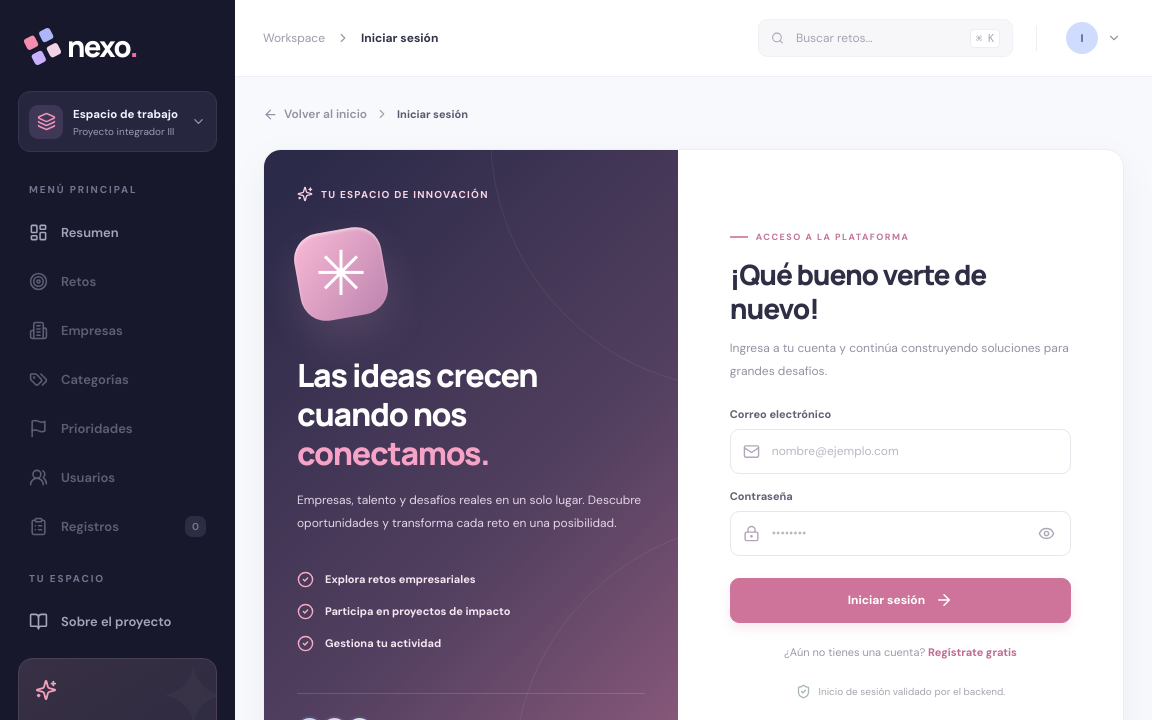
Test case: PlatformApp · autenticación › inicia sesión, guarda el token y abre el perfil
Type "ana@nexo.co" into the field with placeholder "nombre@ejemplo.com" at (914,451), box [770,430,1058,473]
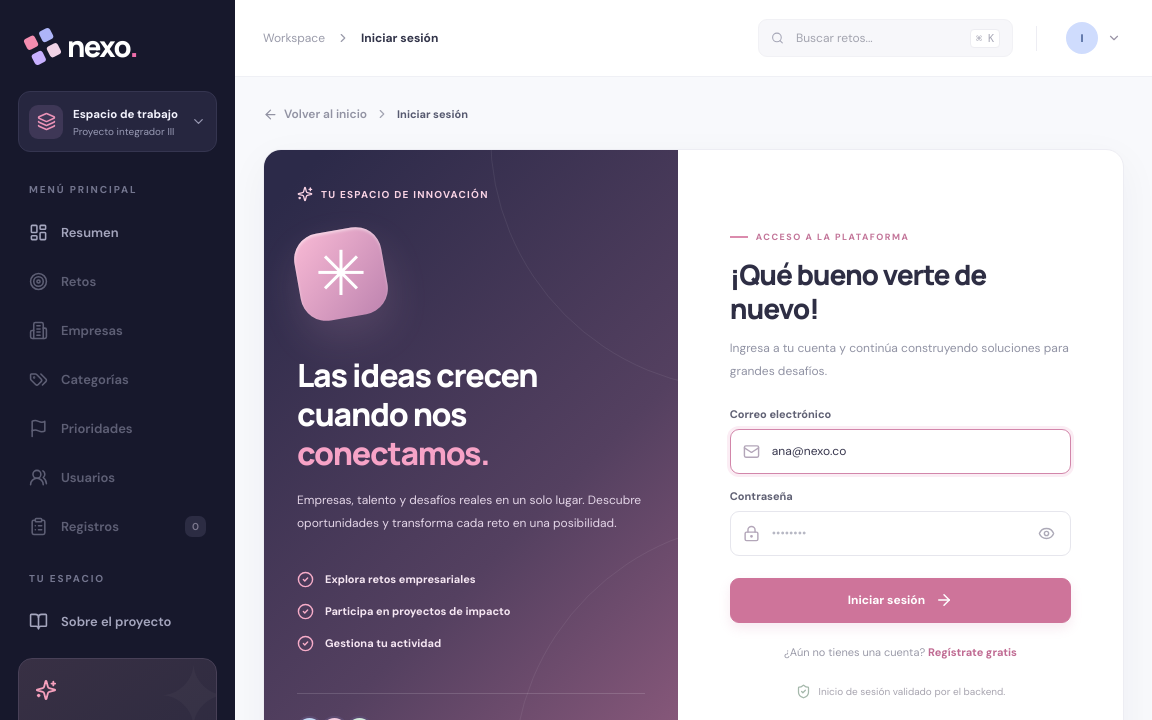
Type "secreta" into the password field with placeholder "••••••••" at (898,533), box [770,512,1025,555]
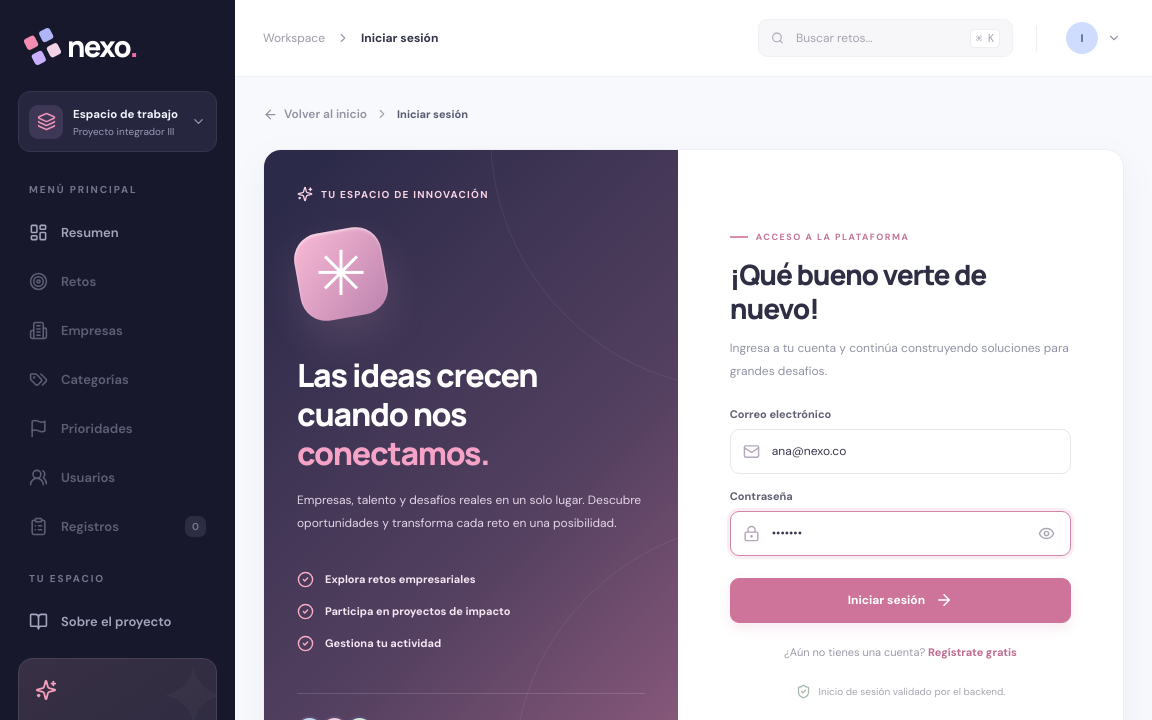
Click the button "Iniciar sesión" at (900,600), box [730,578,1071,623]
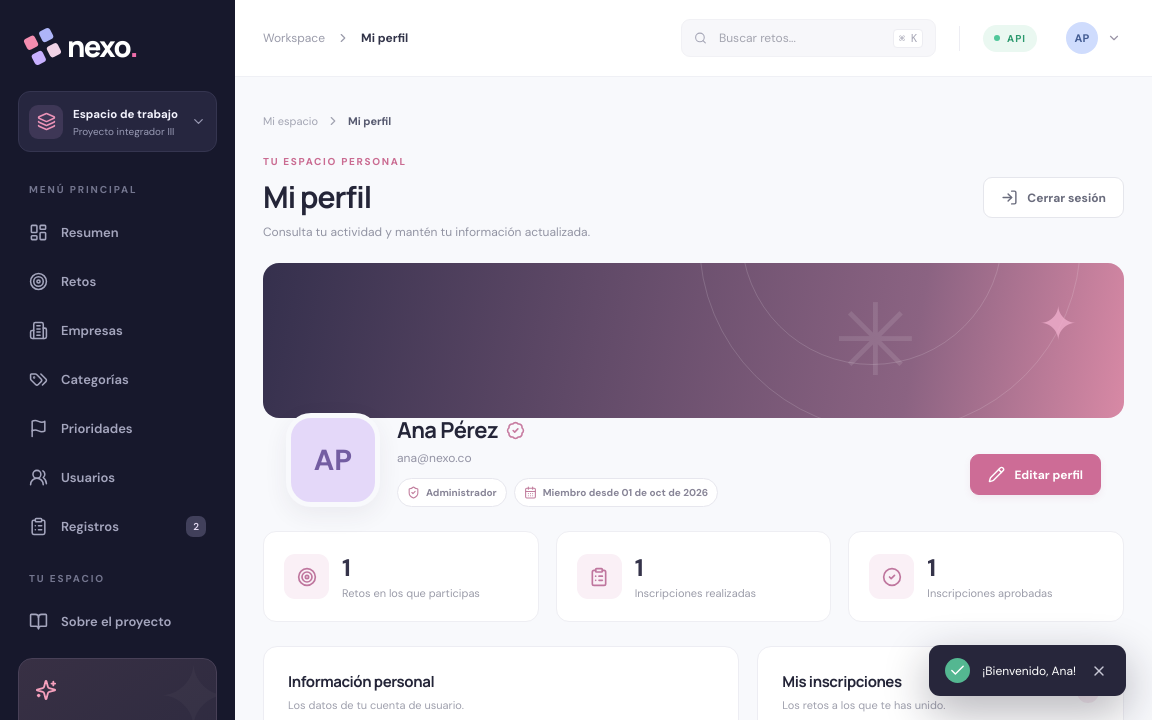
Check: the heading "Mi perfil" is shown, box [263,176,371,217]
Check: the message reads "¡Bienvenido, Ana!", box [982,662,1076,678]
